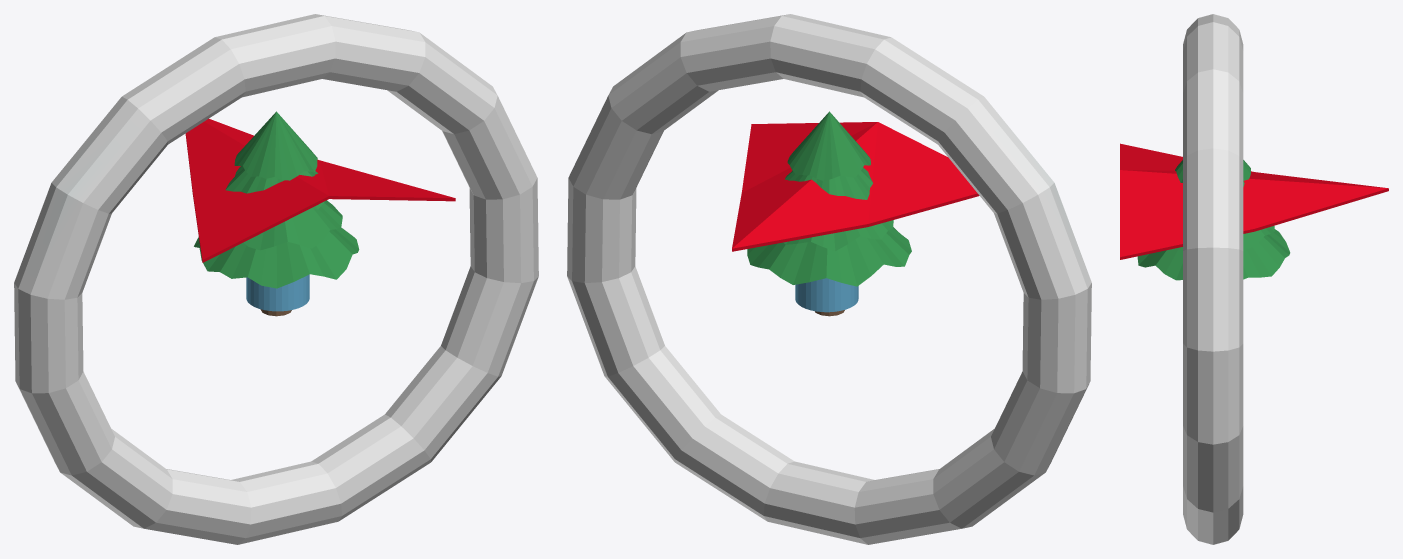
Rendered from glider.gltf.
3 views of the same model, side by side, from view 1: azimuth 30°, elevation 25°; view 2: azimuth 150°, elevation 25°; view 3: azimuth 270°, elevation 25° (orthographic). The views are drawn at different scales.
Parts seen in each view (by area): view 1: Ring, Player, Tree; view 2: Ring, Player, Tree; view 3: Ring, Player, Tree.
Boxes of the visible parts, bbox=[...] form: Ring: bbox=[14, 14, 538, 544]; Player: bbox=[185, 118, 455, 311]; Tree: bbox=[194, 111, 359, 316]; Ring: bbox=[567, 14, 1091, 544]; Player: bbox=[732, 122, 979, 312]; Tree: bbox=[747, 111, 911, 316]; Ring: bbox=[1183, 14, 1243, 544]; Player: bbox=[1120, 143, 1388, 259]; Tree: bbox=[1137, 160, 1290, 280].
Size of the model in its own units: 1.86 by 1.74 by 0.9125.
